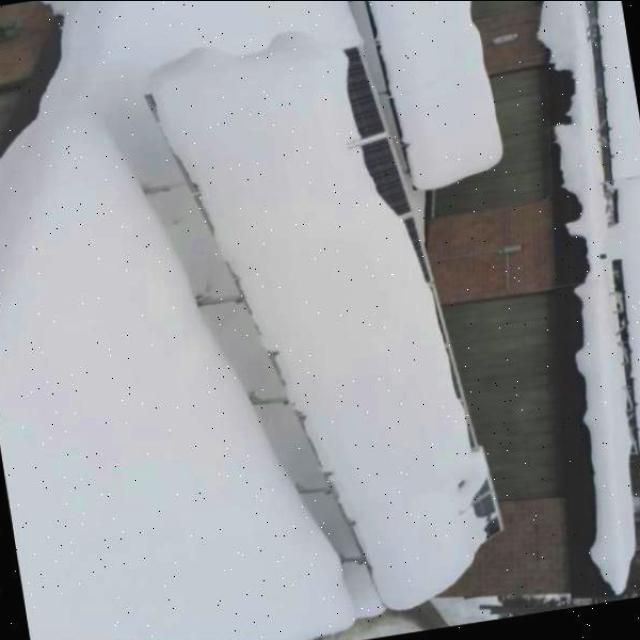Anomaly Solar Panel: (155, 47, 502, 609), (568, 0, 640, 456), (365, 0, 506, 195)
Snow: (154, 53, 490, 611), (569, 0, 640, 464), (369, 0, 502, 196)
